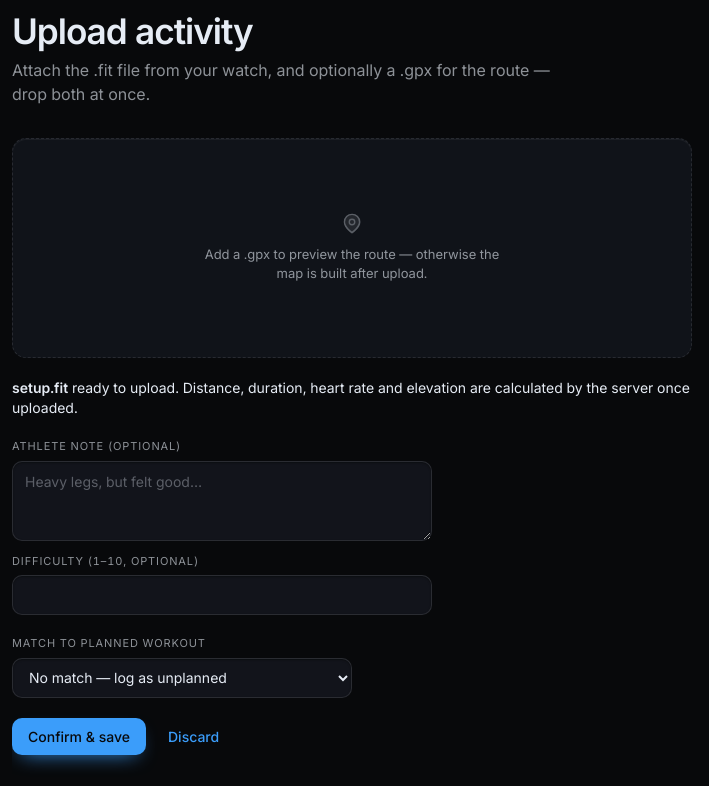
Test: UploadView — envoi › T13 — signale un fichier corrompu (400), sans planter
Earlier steps of the test are not shown.
Click the button "Confirm & save": click(79, 736) [12,718,146,755]
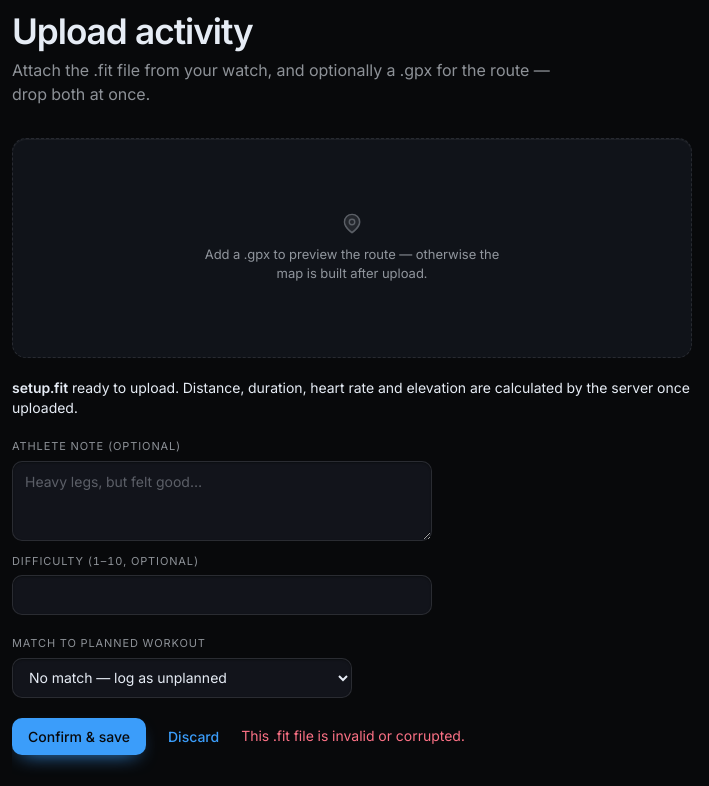
Check: the text "This .fit file is invalid or corrupted." is shown, box [241,726,465,746]
